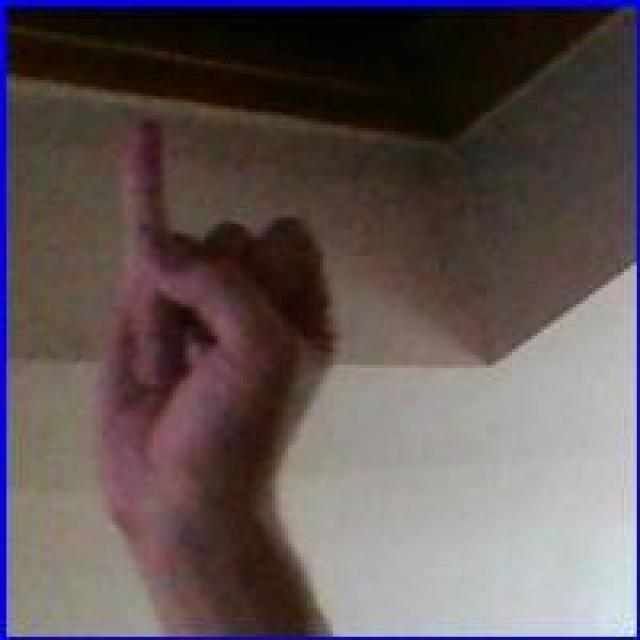I: (91, 115, 344, 554)
